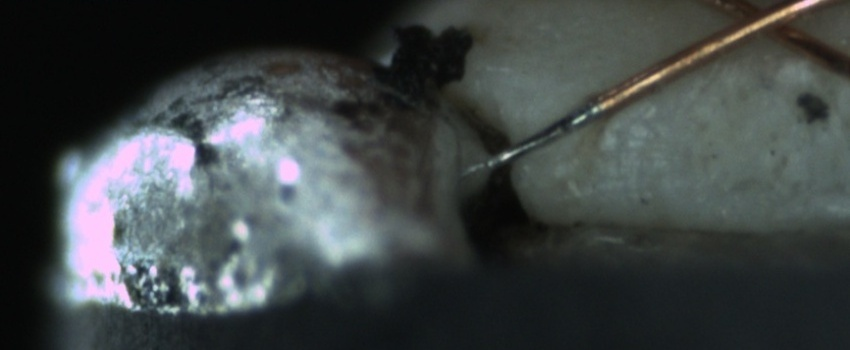CL: (703, 2, 822, 48)
TS: (471, 101, 602, 175)
TTCW: (471, 85, 626, 178)
